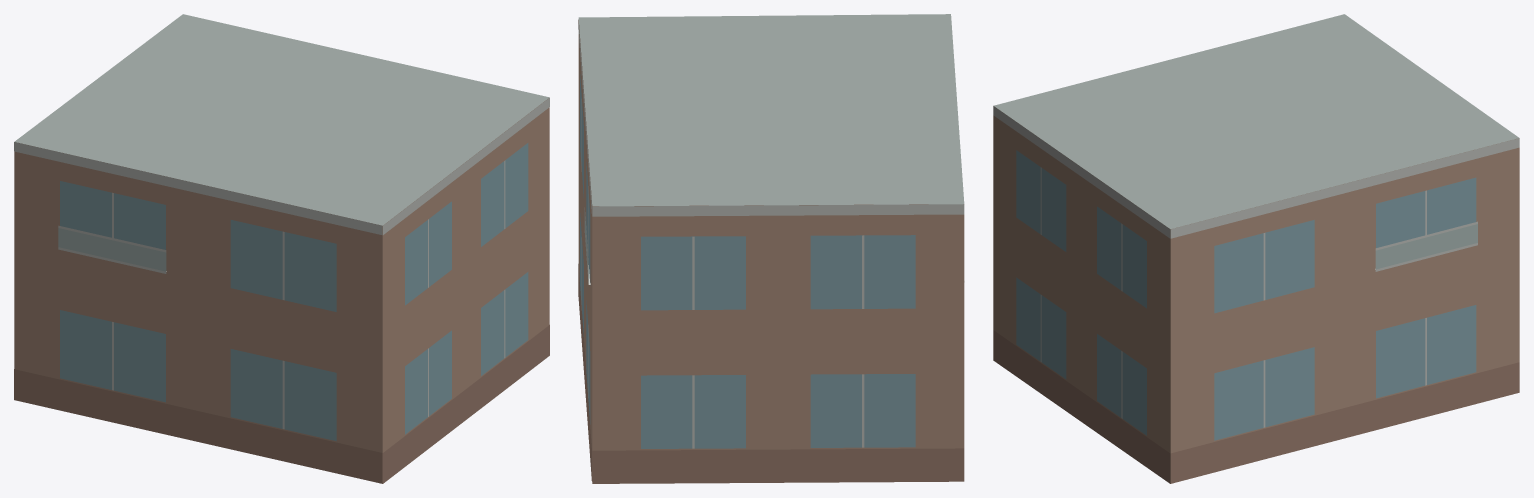
Rendered from survey-upis-32598543.glb.
The picture shows the model from 3 angles, left to right: view 1: azimuth 30°, elevation 25°; view 2: azimuth 150°, elevation 25°; view 3: azimuth 270°, elevation 25°; orthographic projection. The views are drawn at different scales.
Parts seen in each view (by area): view 1: survey-upis-32598543.tmp; view 2: survey-upis-32598543.tmp; view 3: survey-upis-32598543.tmp.
Boxes of the visible parts, x1,y1,x2,y2 form: survey-upis-32598543.tmp: (14,14,549,483); survey-upis-32598543.tmp: (578,14,964,483); survey-upis-32598543.tmp: (993,14,1519,483).
Bounding box in the file's own units: 11.79 × 6.5 × 12.19.
